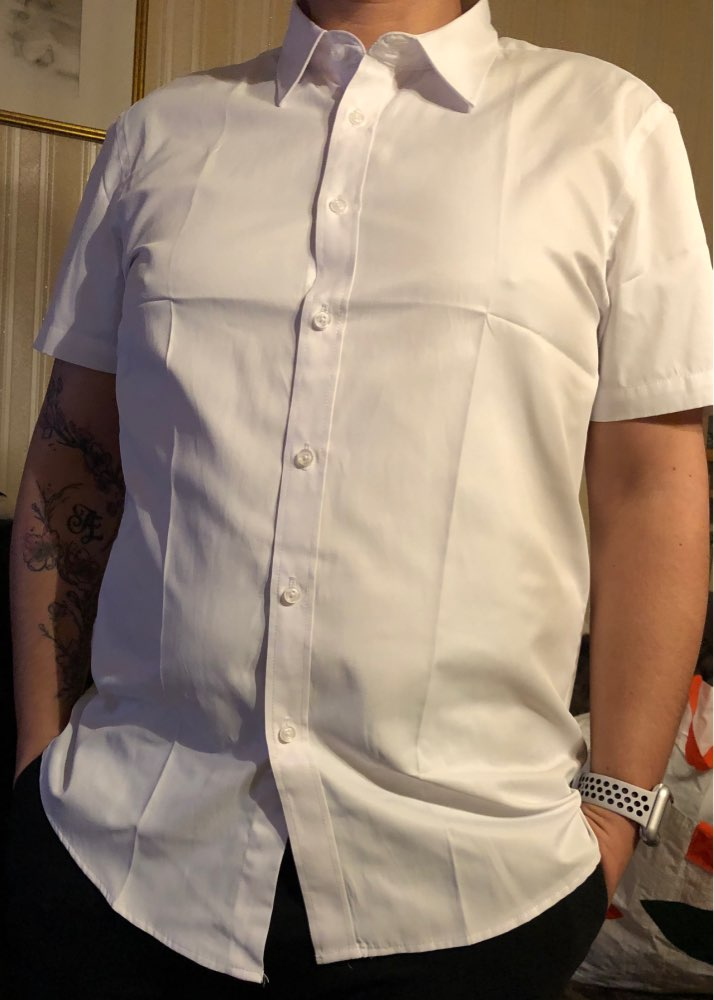shirts: (22, 50, 693, 969)
